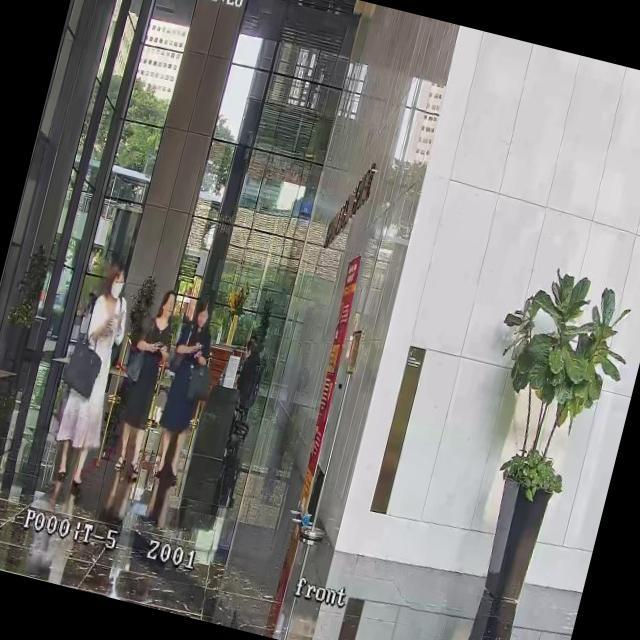person: (42, 252, 144, 498), (100, 284, 186, 481), (142, 295, 222, 484), (231, 335, 265, 404)
